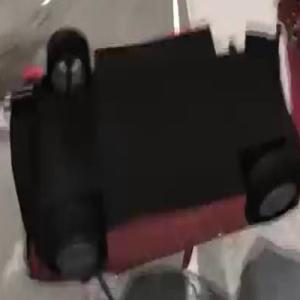serious: (4, 0, 300, 283)
